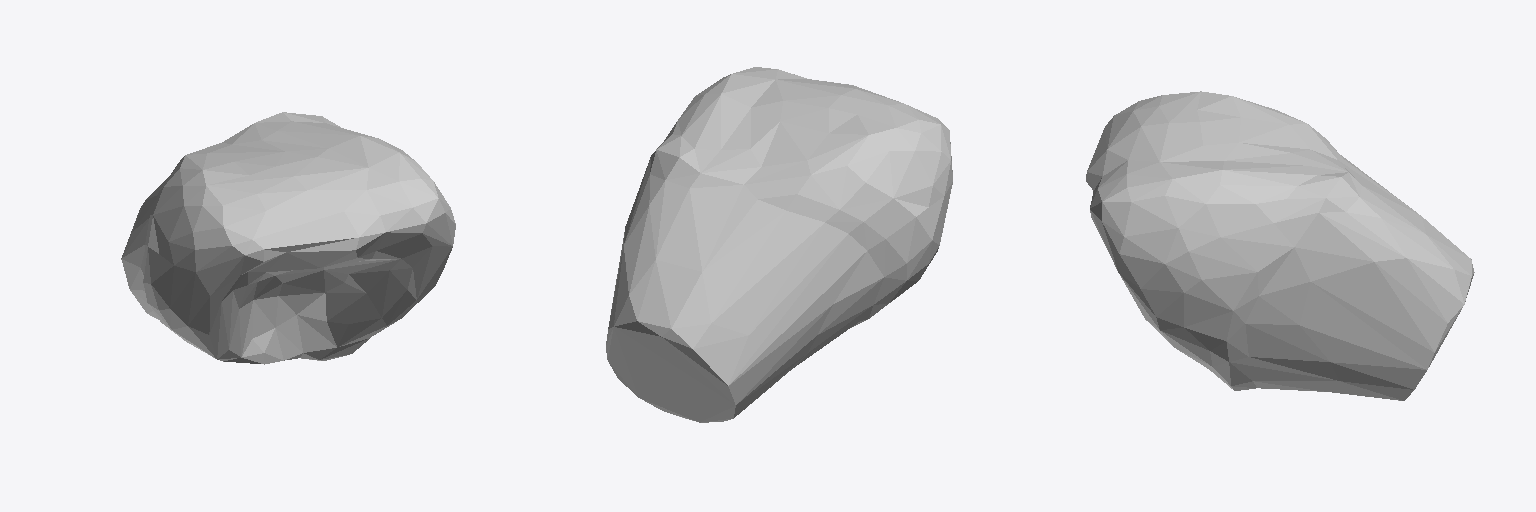
Rendered from local_t12_7780_si.OBJ.
The picture shows the model from 3 angles: view 1: azimuth 30°, elevation 25°; view 2: azimuth 150°, elevation 25°; view 3: azimuth 270°, elevation 25°; orthographic projection.
Visible parts, largest first — view 1: Group24281; view 2: Group24281; view 3: Group24281.
Boxes of the visible parts, x1=… form: Group24281: x1=121, y1=112, x2=455, y2=364; Group24281: x1=606, y1=67, x2=952, y2=422; Group24281: x1=1086, y1=91, x2=1474, y2=400.
Size of the model in its own units: 8.01 by 7.08 by 10.03.